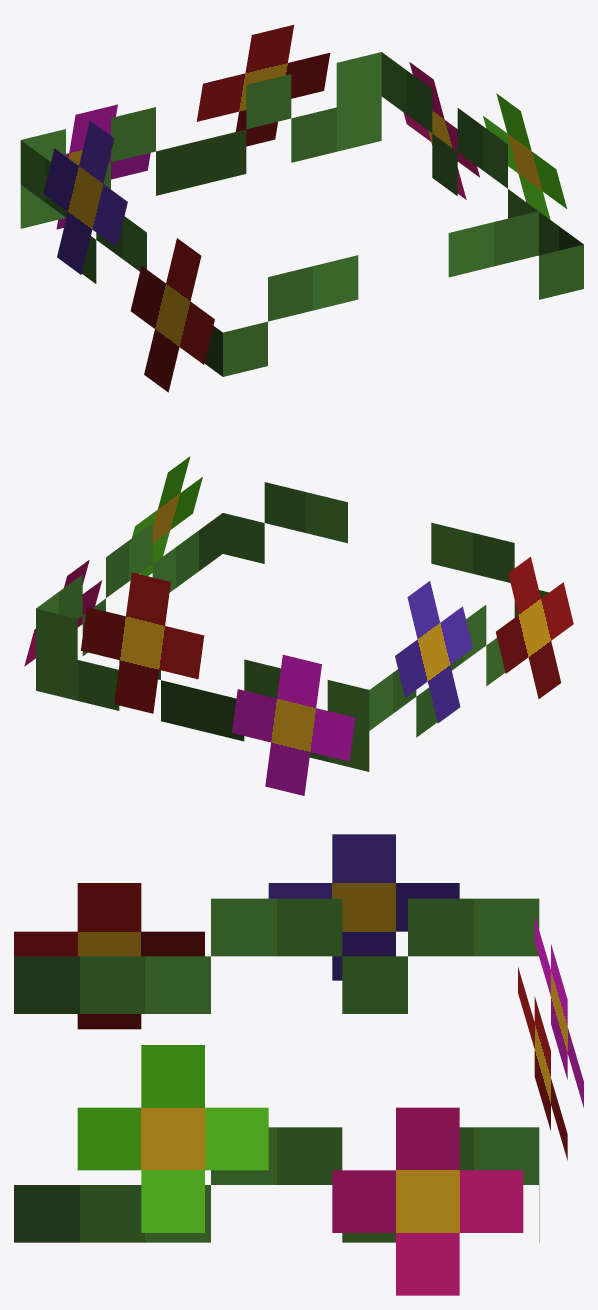
Rendered from flower_crown.obj.
3 renders of one model, top to bottom at view 1: azimuth 30°, elevation 25°; view 2: azimuth 150°, elevation 25°; view 3: azimuth 270°, elevation 25°, orthographic. The views are drawn at different scales.
Visible parts, largest first — view 1: flower_crown_part_6, flower_crown_part_2, flower_crown_part_3, flower_crown_part_0, flower_crown_part_4, flower_crown_part_1, flower_crown_part_5; view 2: flower_crown_part_6, flower_crown_part_0, flower_crown_part_1, flower_crown_part_3, flower_crown_part_2, flower_crown_part_4, flower_crown_part_5; view 3: flower_crown_part_6, flower_crown_part_4, flower_crown_part_5, flower_crown_part_2, flower_crown_part_3, flower_crown_part_0, flower_crown_part_1.
Part boxes in pixels (x1,y1,x2,y2): flower_crown_part_6: (20, 52, 583, 376); flower_crown_part_2: (43, 121, 127, 274); flower_crown_part_3: (130, 238, 214, 392); flower_crown_part_0: (196, 25, 330, 146); flower_crown_part_4: (483, 93, 566, 219); flower_crown_part_1: (56, 104, 150, 229); flower_crown_part_5: (403, 62, 479, 199); flower_crown_part_6: (36, 482, 548, 771); flower_crown_part_0: (81, 572, 204, 713); flower_crown_part_1: (232, 654, 355, 795); flower_crown_part_3: (496, 556, 573, 698); flower_crown_part_2: (395, 581, 472, 723); flower_crown_part_4: (132, 456, 202, 576); flower_crown_part_5: (24, 560, 102, 666); flower_crown_part_6: (14, 898, 539, 1242); flower_crown_part_4: (77, 1045, 268, 1232); flower_crown_part_5: (332, 1107, 523, 1295); flower_crown_part_2: (268, 834, 459, 980); flower_crown_part_3: (14, 883, 204, 1029); flower_crown_part_0: (518, 967, 567, 1160); flower_crown_part_1: (534, 916, 583, 1107).
Size of the model in its own units: 0.6192 by 0.2415 by 0.5596.
1 material, 1 textured.
